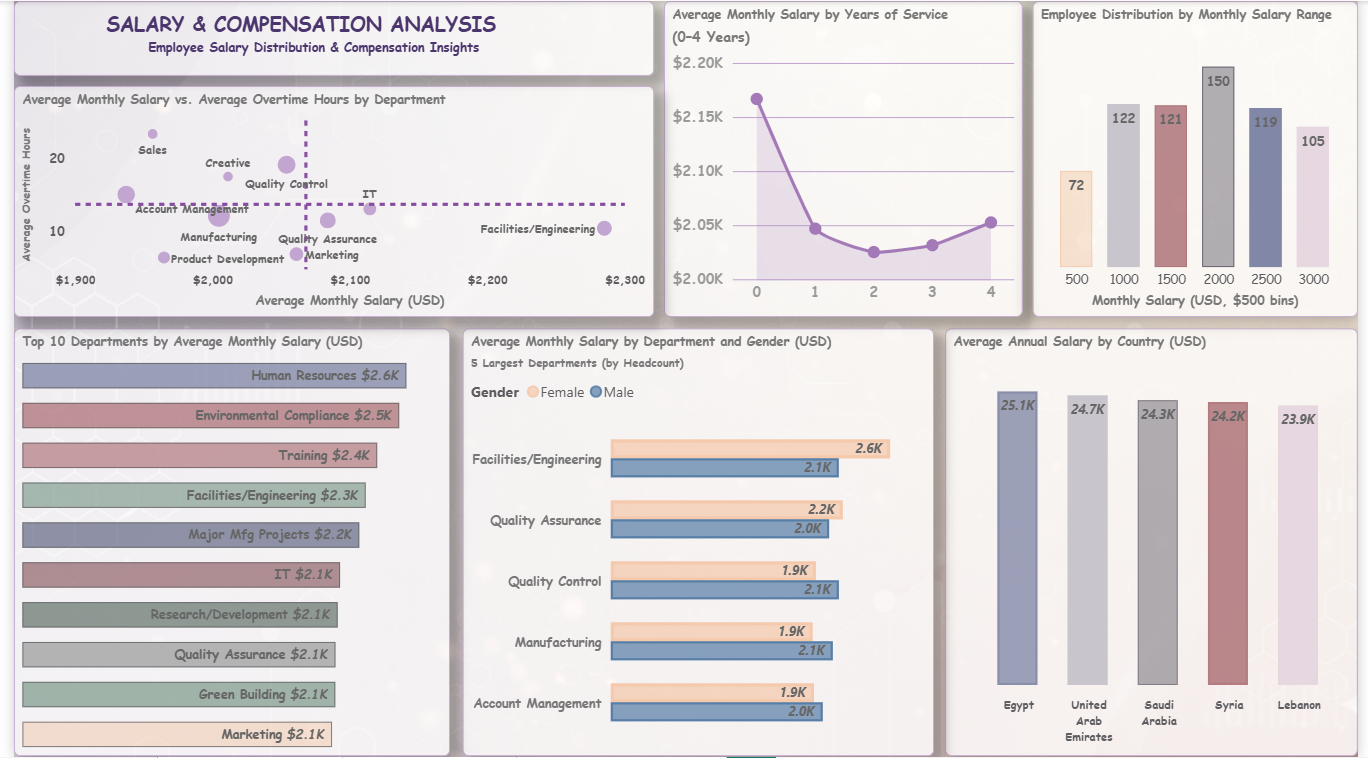

The dashboard page shown, as its layout file describes it:
{"tool":"powerbi","page":{"name":"Salary & Compensation","canvas":[1280,720],"ordinal":2},"visuals":[{"type":"textbox","box":[0,0,609.5,71.4],"z":0},{"type":"clusteredBarChart","title":"Top 10 Departments by Average Monthly Salary (USD)","fields":{"Y":["Employees.Average Monthly Salary"],"Category":["Employees.Department"]},"box":[0,312.5,415,407.5],"z":1000},{"type":"clusteredColumnChart","title":"Average Annual Salary by Country (USD)","fields":{"Category":["Employees.Country"],"Y":["Employees.Average Annual Salary"]},"box":[887.5,312.5,392.5,407.5],"z":2000},{"type":"lineChart","title":"Average Monthly Salary by Years of Service","fields":{"Y":["Employees.Average Monthly Salary"],"Category":["Employees.Years"]},"box":[619.1,0,341.7,301.2],"z":3000},{"type":"clusteredBarChart","title":"Average Monthly Salary by Department and Gender (USD)","fields":{"Category":["Employees.Department"],"Y":["Employees.Average Monthly Salary"],"Series":["Employees.Gender"]},"box":[427.5,312.5,448.8,407.5],"z":4000},{"type":"clusteredColumnChart","title":"Employee Distribution by Monthly Salary Range","fields":{"Category":["Employees.Monthly Salary Range"],"Y":["Employees.Total Employees"]},"box":[970.2,0,309.5,301.2],"z":5000},{"type":"scatterChart","title":"Average Monthly Salary vs. Average Overtime Hours by Department","fields":{"Category":["Employees.Department"],"X":["Employees.Average Monthly Salary"],"Y":["Employees.Average Overtime Hours"],"Size":["Employees.Total Employees"]},"box":[0,81,609.5,220.2],"z":6000}]}

Visuals, with their boxes in screenshot pixels (x1, y1, x2, y2), scaled from the page's 1280x720 canvas onto the 1368x758 screenshot:
textbox: 0/0/651/75
"Top 10 Departments by Average Monthly Salary (USD)" clusteredBarChart: 0/329/444/757
"Average Annual Salary by Country (USD)" clusteredColumnChart: 949/329/1367/757
"Average Monthly Salary by Years of Service" lineChart: 662/0/1027/317
"Average Monthly Salary by Department and Gender (USD)" clusteredBarChart: 457/329/937/757
"Employee Distribution by Monthly Salary Range" clusteredColumnChart: 1037/0/1367/317
"Average Monthly Salary vs. Average Overtime Hours by Department" scatterChart: 0/85/651/317
